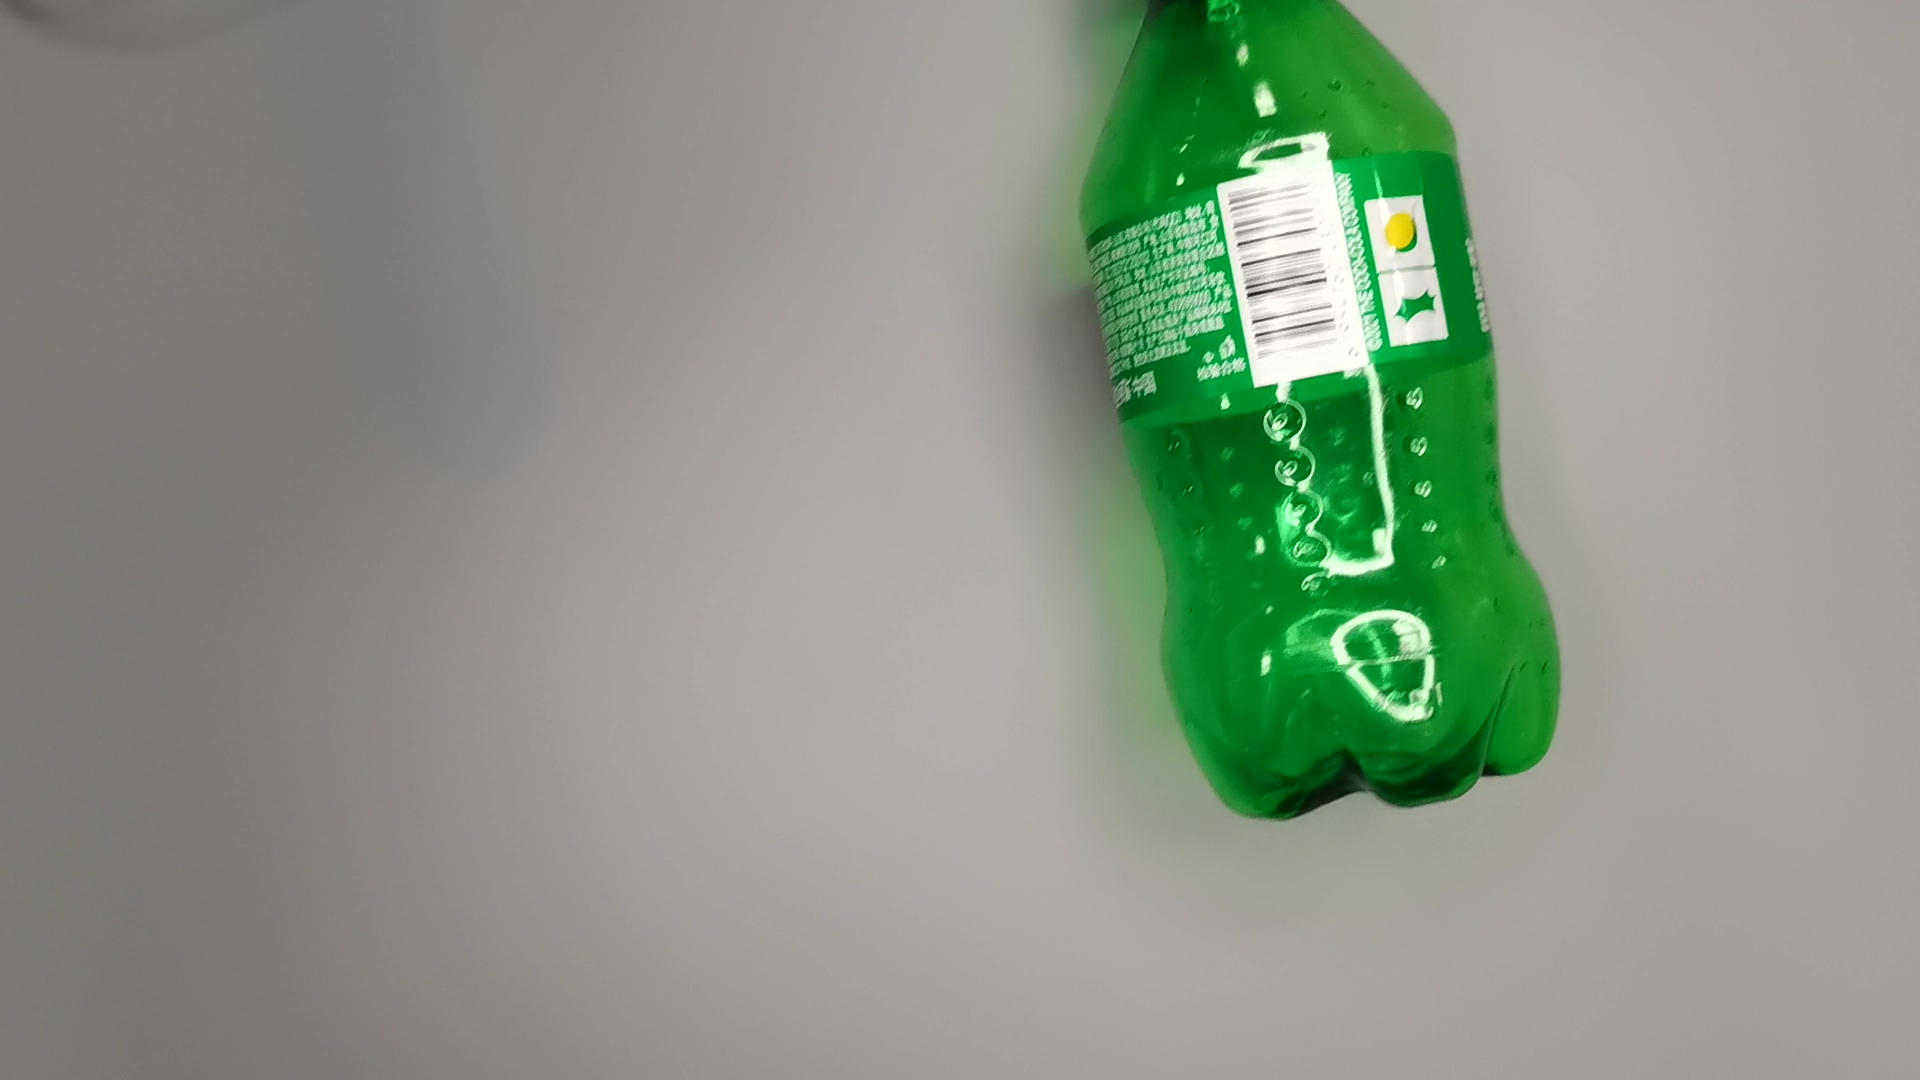bottle: (1067, 1, 1576, 835)
